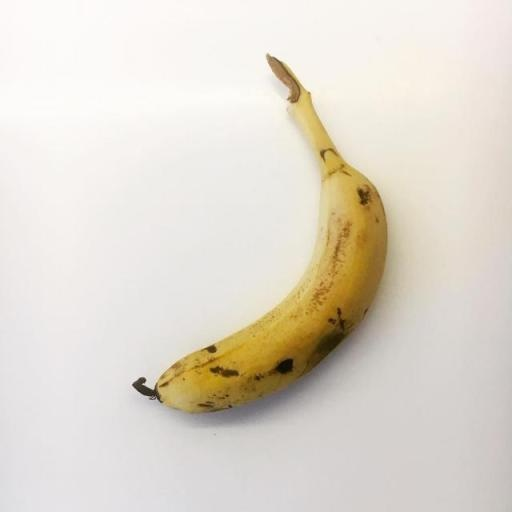fruit: (133, 55, 386, 412)
